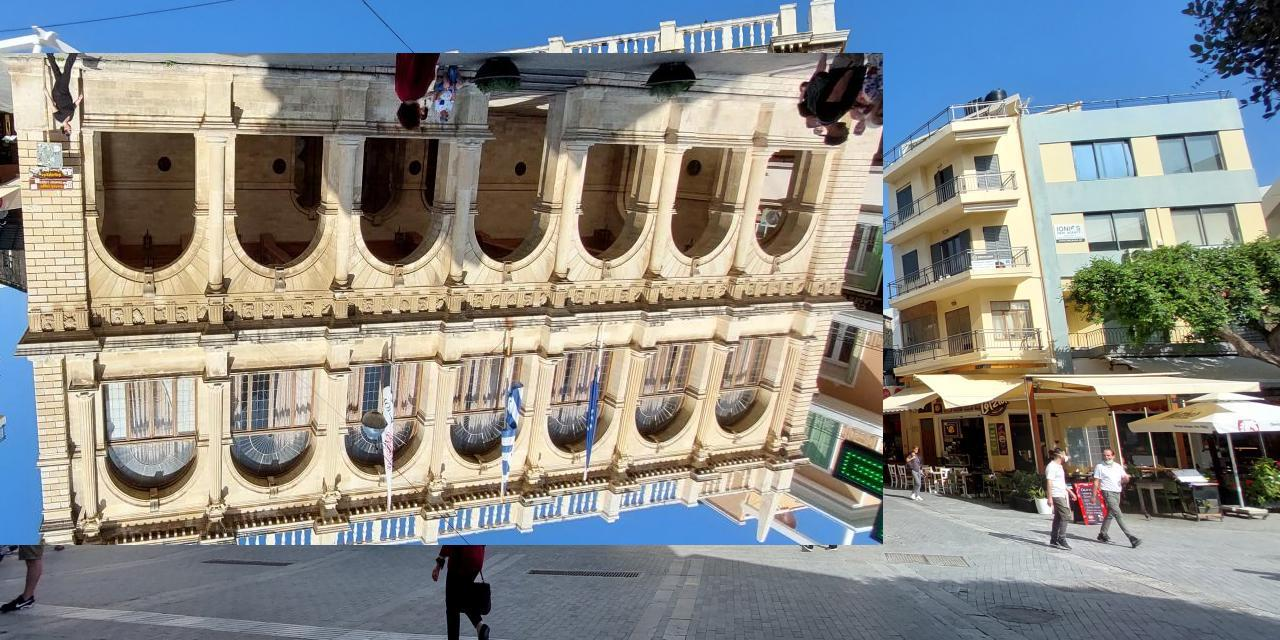Loggia: (1, 54, 884, 546)
